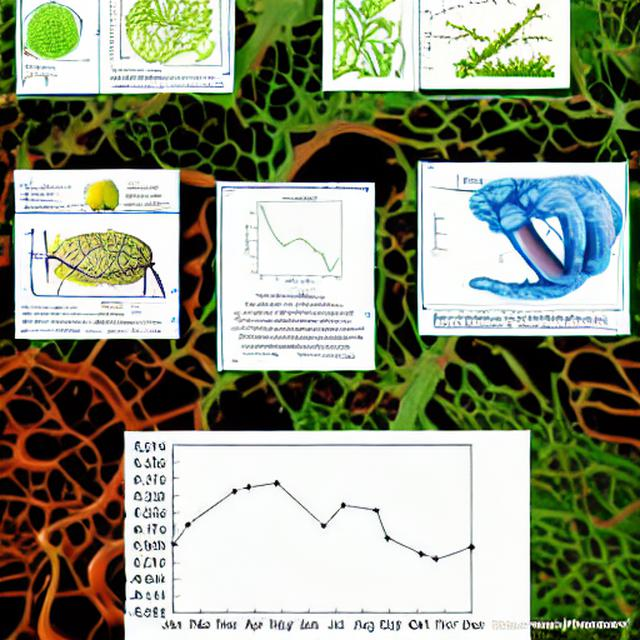Graph: (126, 434, 489, 639), (234, 190, 362, 286)
